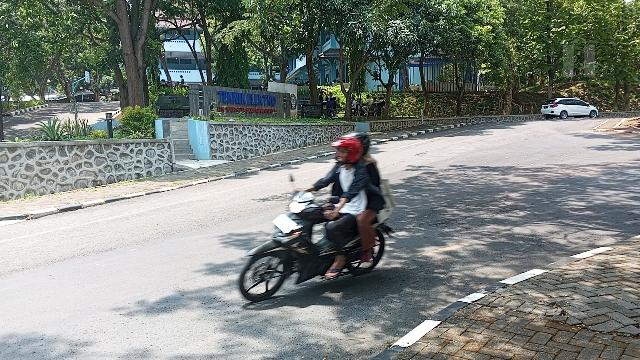helm: (332, 138, 363, 164)
motor: (240, 192, 393, 303)
